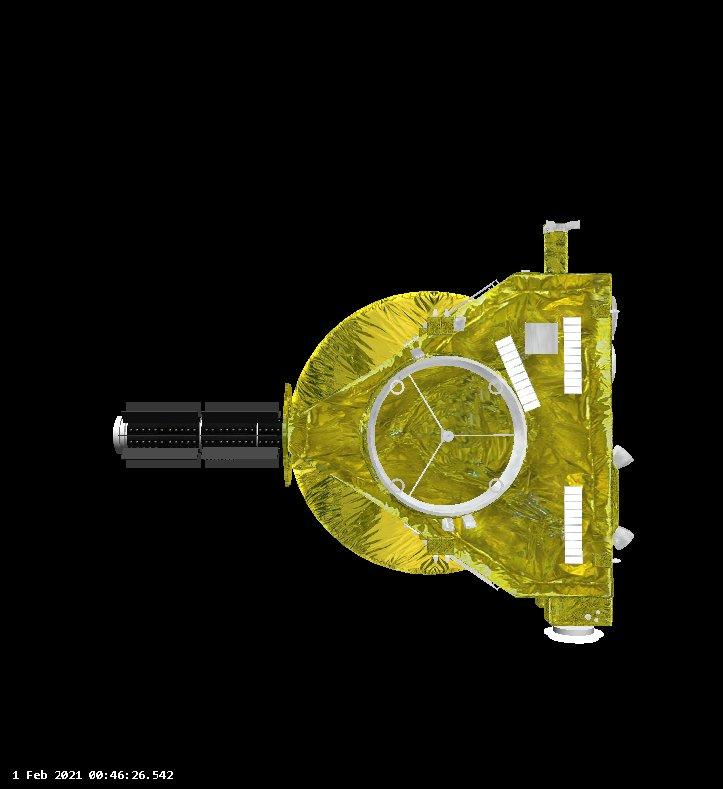antenna: (287, 284, 565, 581), (539, 615, 609, 653)
body: (470, 265, 629, 630)
thruster: (608, 435, 637, 475), (608, 523, 640, 554)
